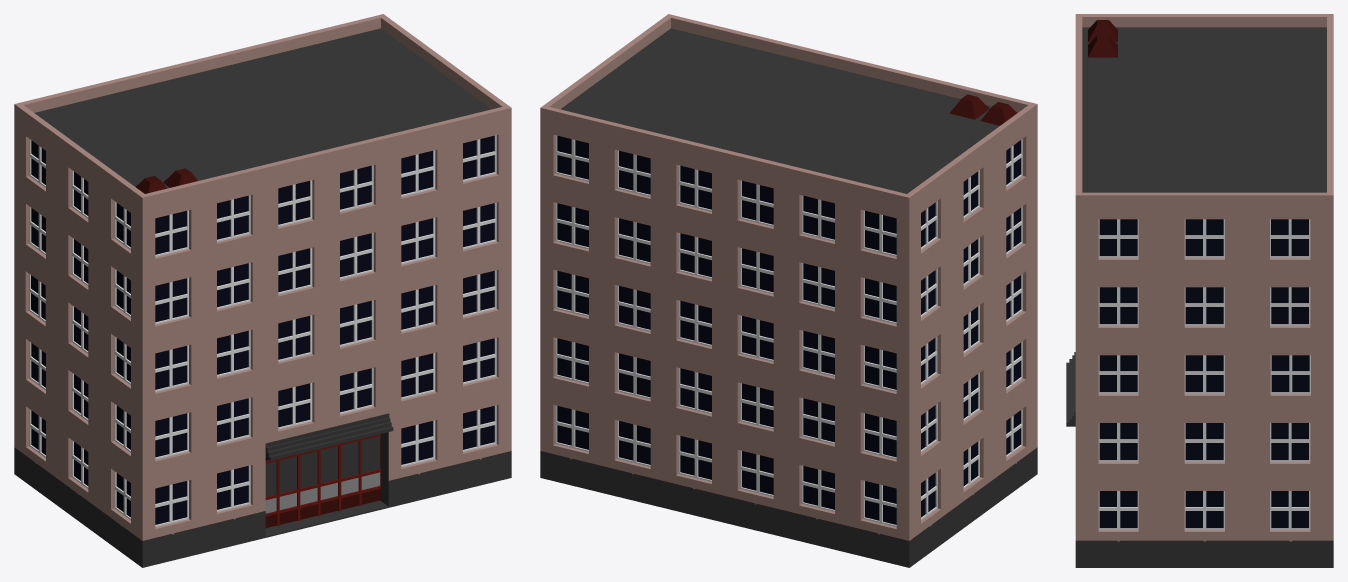
File: Building_2.fbx
The picture shows the model from 3 angles, left to right: view 1: azimuth 30°, elevation 25°; view 2: azimuth 150°, elevation 25°; view 3: azimuth 270°, elevation 25°; orthographic projection.
Visible parts, largest first — view 1: Cube; view 2: Cube; view 3: Cube.
Boxes of the visible parts, x1,y1,x2,y2 form: Cube: (14,14,511,567); Cube: (540,14,1037,567); Cube: (1066,14,1333,567).
Bounding box in the file's own units: 1430 × 1381 × 891.
